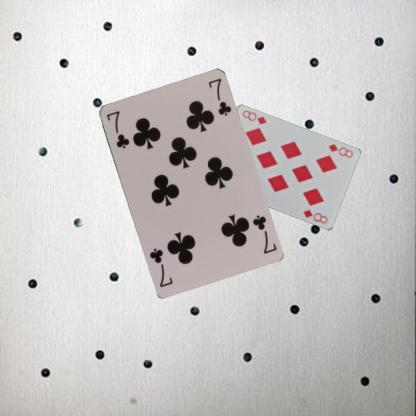7c: (249, 212, 278, 255), (104, 108, 130, 150)
8d: (326, 141, 354, 159)
